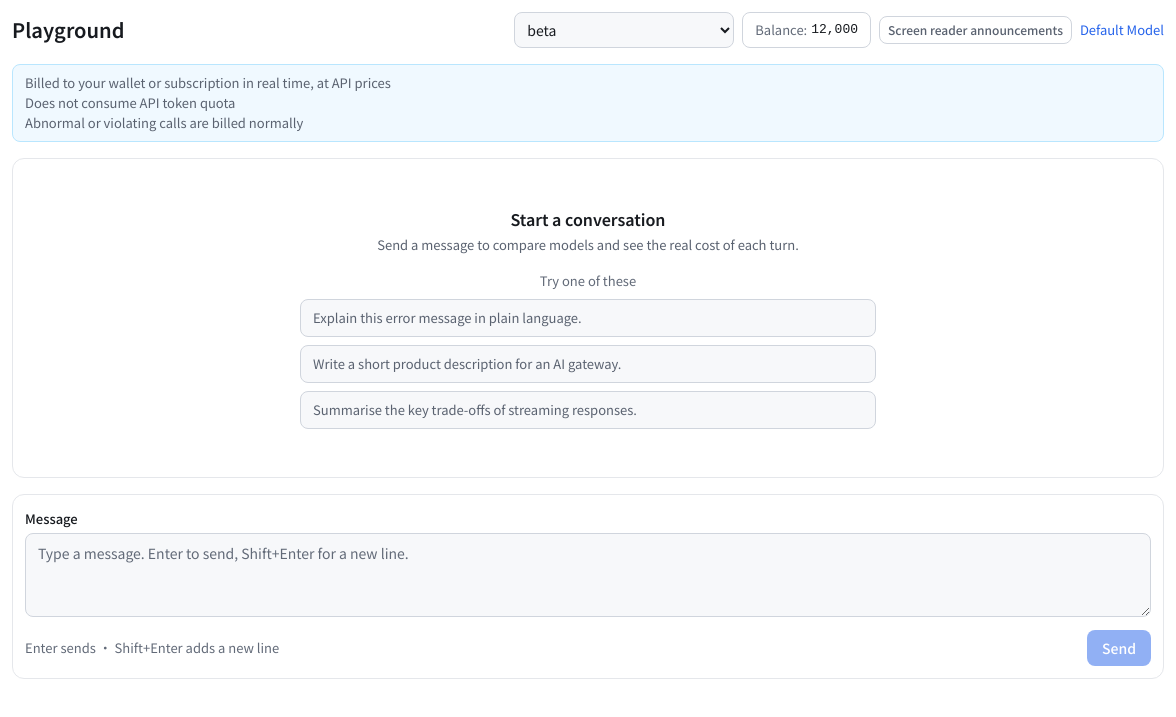
PlaygroundPage › shows the unavailable-model card on 403 and keeps the user message
This screenshot has width=1176, height=717.
Expected: the dropdown named "Select a model" is shown, [514,12,734,48]
Type "hello" into the text box labelled "Message".
click(588, 575); type("hello")  # box [25,533,1151,617]
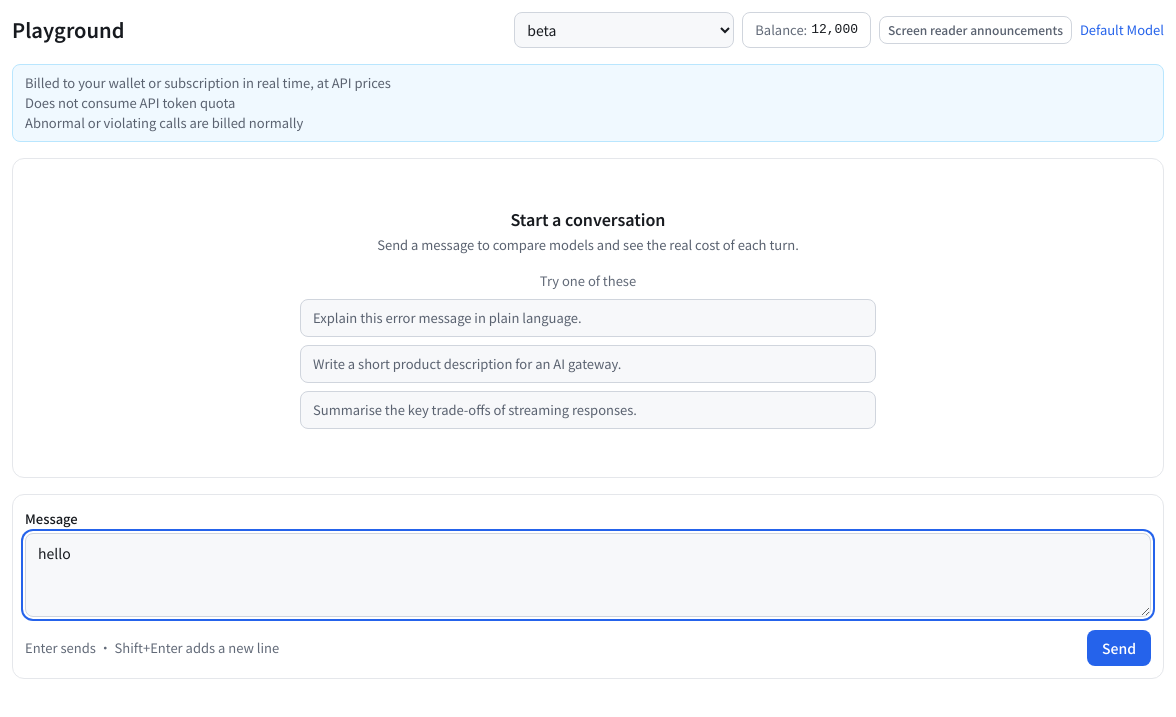
Click the button "Send".
click(1119, 648)  # box [1087,630,1151,666]
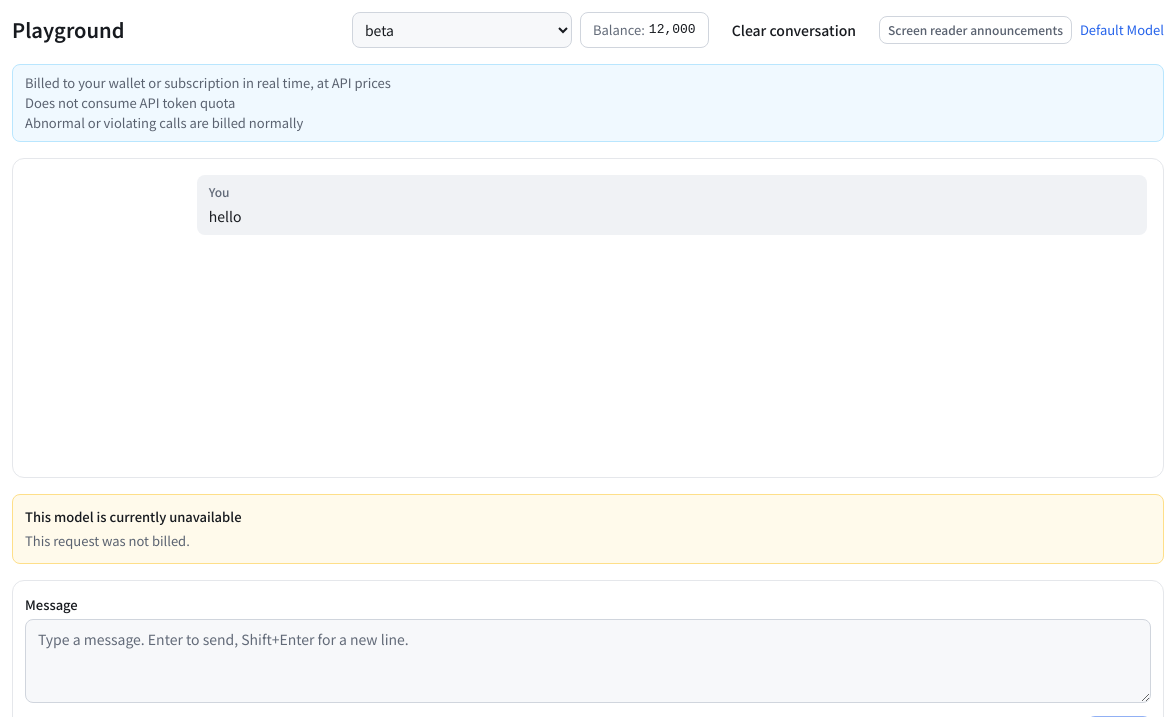
Expected: the message shows "This model is currently unavailable", [25,507,242,526]
Expected: the text "This request was not billed." is shown, [25,531,190,550]
Expected: the text "hello" is shown, [209,206,241,226]
